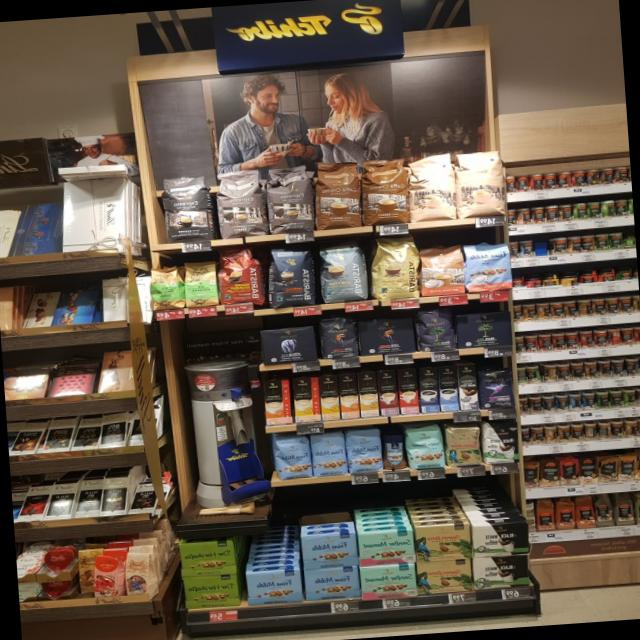AB Gemahlen: (258, 325, 318, 365)
Athiopien Bohne: (148, 264, 184, 311)
Athiopien Gemahlen: (182, 259, 220, 308)
BM Bohne: (412, 307, 457, 352)
BM Gemahlen: (455, 310, 512, 349)
BW Bohne: (482, 421, 520, 465)
BW Gemahlen: (471, 520, 530, 557), (472, 554, 530, 591)
Barista CB: (367, 234, 420, 299)
Barista CC: (315, 241, 370, 303)
Barista Espresso: (264, 245, 318, 309)
Barista Kolumbien: (215, 245, 267, 307)
C Fino Bohne: (477, 368, 515, 409)
CC Mild: (451, 148, 508, 219), (407, 152, 457, 222)
CC Vollmundig: (418, 243, 466, 297)
CC Vollmundig 36 Pads: (312, 160, 363, 230), (360, 156, 410, 227)
Colombia BB Bohne: (444, 425, 485, 467)
Colombia BB Gemahlen: (415, 522, 473, 562), (416, 558, 472, 595)
Empty Shelf: (241, 535, 300, 572)
Espresso Aromatisch: (214, 167, 268, 239)
Espresso Kraftig: (160, 172, 215, 243)
FM 36 Pads: (462, 242, 514, 292)
FM Bohne: (308, 431, 349, 477), (272, 435, 313, 480), (345, 428, 384, 474)
FM Gemahlen: (299, 532, 359, 570), (302, 565, 361, 602), (244, 569, 303, 605)
FM Instant: (380, 431, 408, 471)
Herzhatfe Mundig: (178, 538, 237, 576), (181, 574, 240, 609)
LG Bohne: (316, 315, 360, 360)
LG Gemahlen: (356, 317, 416, 356)
SM Bohne: (404, 424, 447, 471)
SM Gemahlen: (357, 529, 415, 566), (359, 563, 417, 600)
Simo CCMild: (292, 376, 321, 422)
Simo CCMild bigpack: (318, 374, 340, 421)
Simo CCVollmundig: (262, 378, 293, 425)
Simo CCVollmundig bigpack: (338, 373, 359, 418)
Simo Decaff: (357, 371, 379, 417)
Simo Es Brazil: (398, 368, 419, 414)
Simo Es Caramel: (377, 369, 399, 415)
Simo Es Elegant: (457, 364, 479, 410)
Simo Es Kraft: (417, 366, 440, 413)
Simo Es Vanilla: (437, 365, 458, 411)
